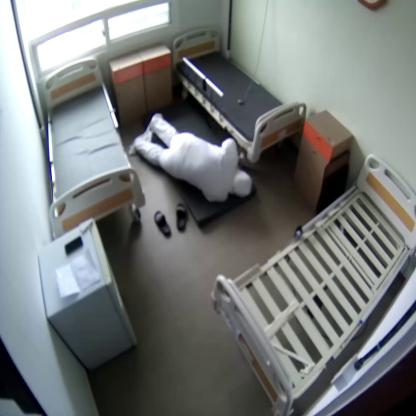Person: (132, 114, 252, 201)
